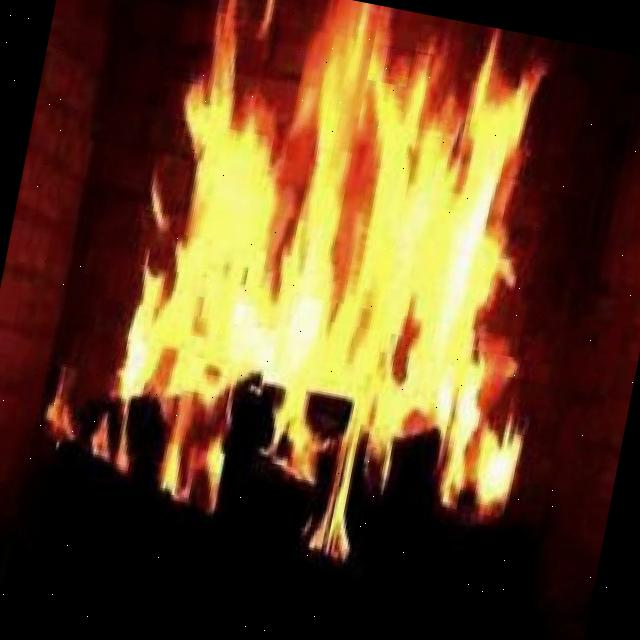fire: (124, 24, 578, 514)
